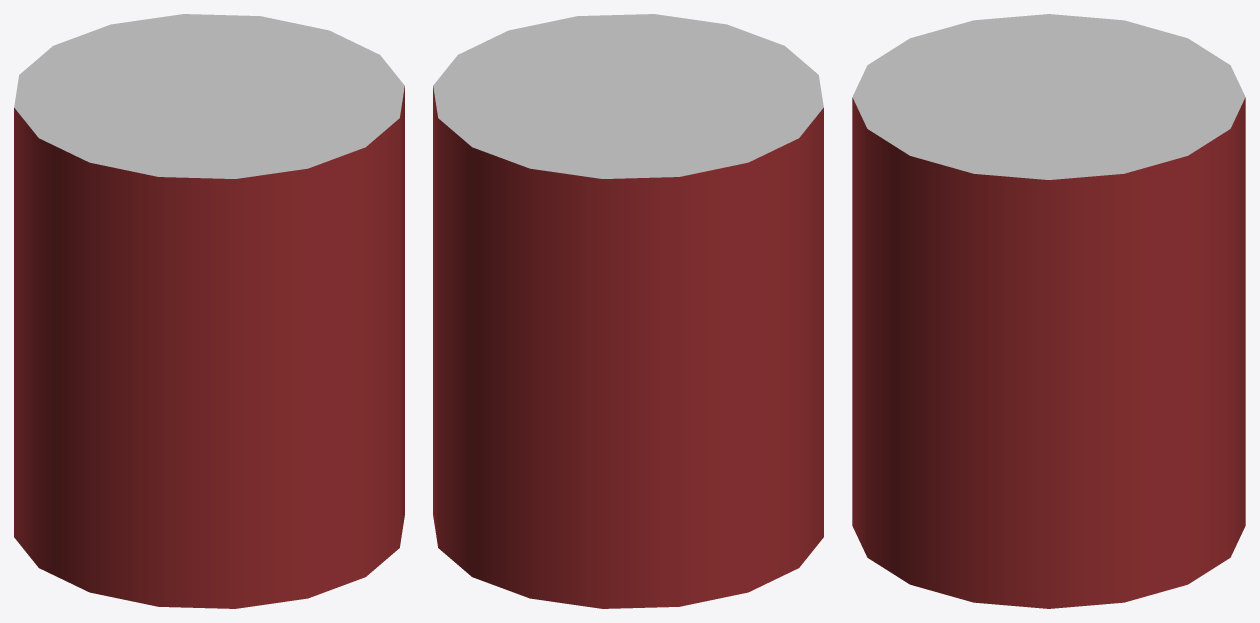
File: can.fbx
3 renders of one model, left to right at view 1: azimuth 30°, elevation 25°; view 2: azimuth 150°, elevation 25°; view 3: azimuth 270°, elevation 25°, orthographic.
Visible parts, largest first — view 1: can; view 2: can; view 3: can.
Part boxes in pixels (x1,y1,x2,y2): can: (14,14,404,608); can: (433,14,823,608); can: (852,14,1245,608).
Bounding box in the file's own units: 2 × 2 × 2.41.
